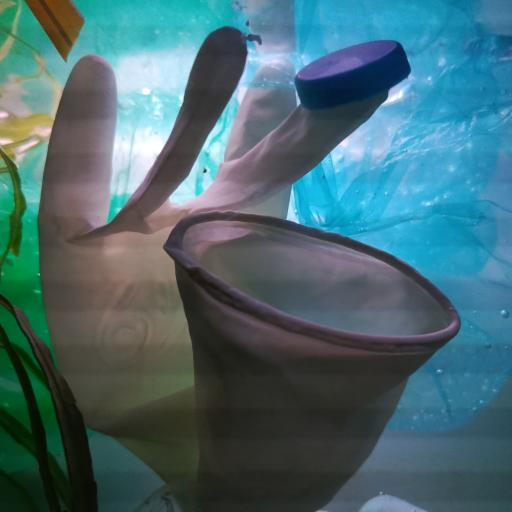bottle_cap: (295, 37, 412, 110)
glove: (40, 28, 463, 512)
plastic_bag: (199, 52, 512, 432), (0, 172, 181, 490)
plastic_straw: (25, 0, 89, 63)
